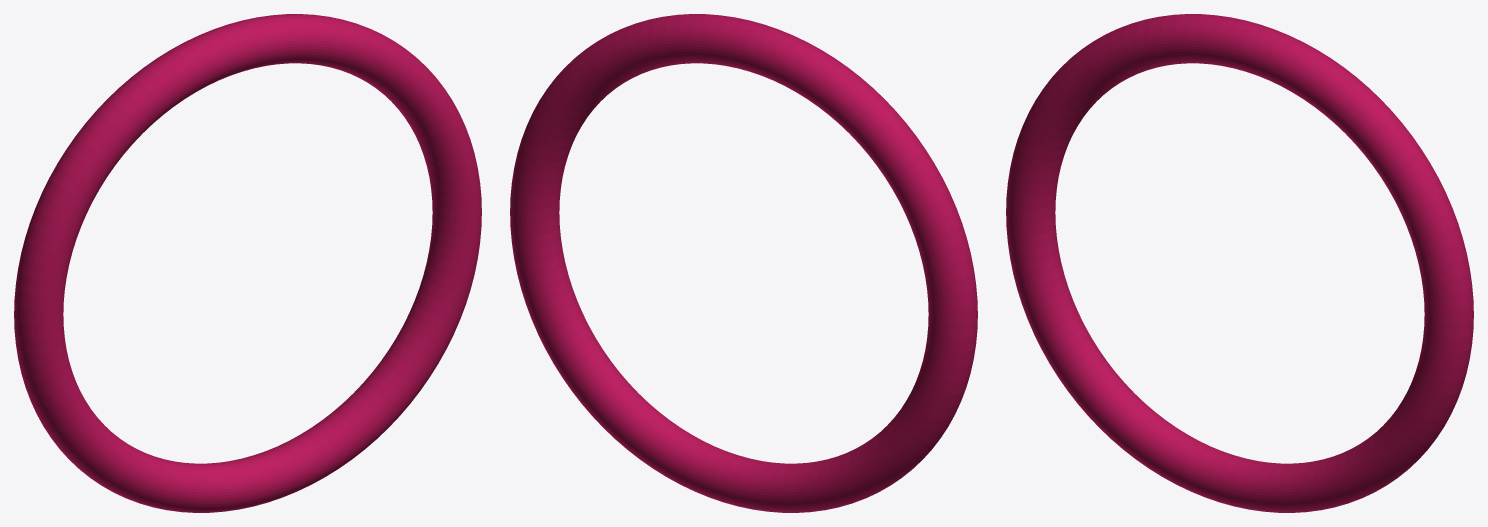
3 views of the same model, side by side, from view 1: azimuth 30°, elevation 25°; view 2: azimuth 150°, elevation 25°; view 3: azimuth 330°, elevation 25° (orthographic).
Parts seen in each view (by area): view 1: world; view 2: world; view 3: world.
Boxes of the visible parts, x1=… form: world: x1=14, y1=14, x2=481, y2=512; world: x1=510, y1=14, x2=977, y2=512; world: x1=1006, y1=14, x2=1473, y2=512.
Bounding box in the file's own units: 33.07 × 33.07 × 3.06.
